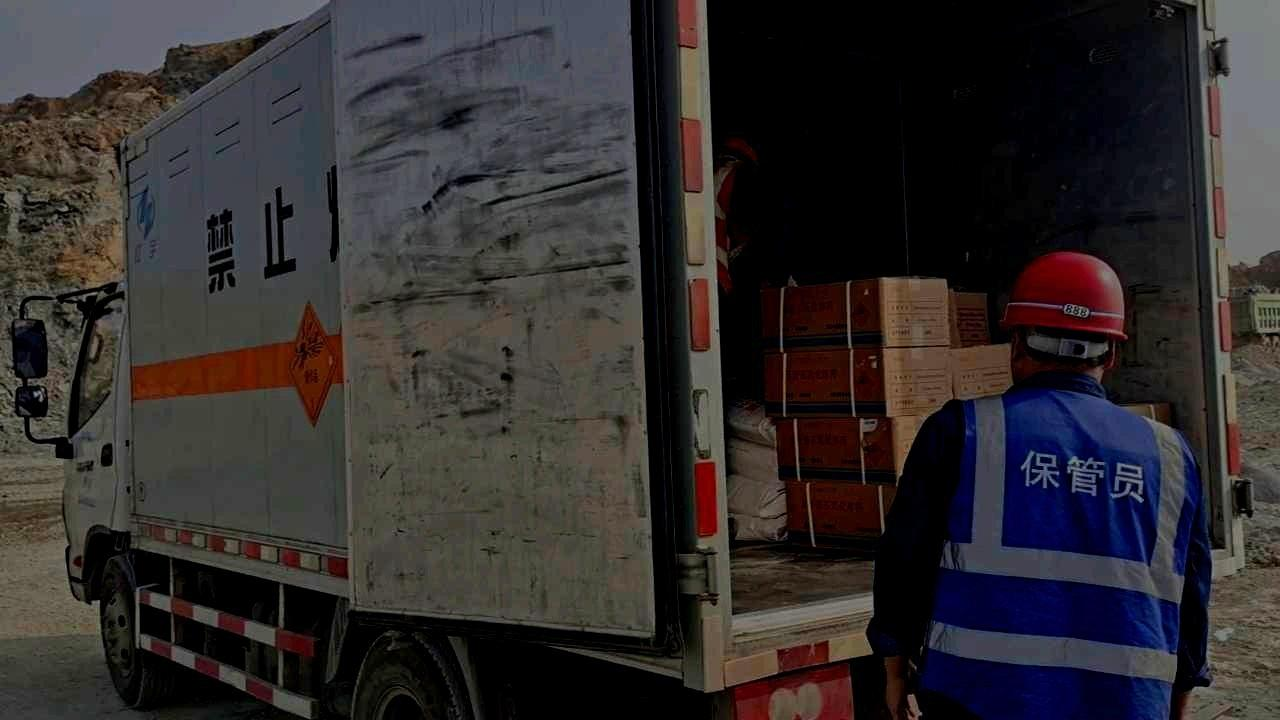helmet: (998, 251, 1128, 383), (713, 136, 758, 168)
